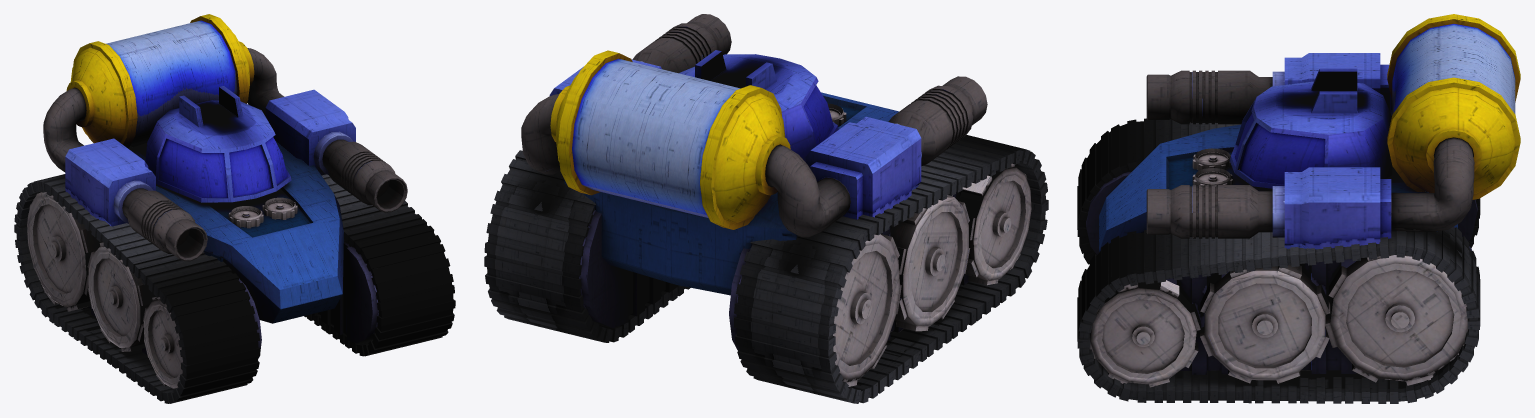
File: PlayerB15.obj
3 views of the same model, side by side, from view 1: azimuth 30°, elevation 25°; view 2: azimuth 150°, elevation 25°; view 3: azimuth 270°, elevation 25° (orthographic). The views are drawn at different scales.
Visible parts, largest first — view 1: Object001, Box042, Object004, Object003, Object002; view 2: Object001, Box042, Object003, Object004, Object002; view 3: Object001, Box042, Object004, Object003, Object002.
Boxes of the visible parts, box(x1,y1,x2,y2) form: Object001: box(43, 14, 407, 358); Box042: box(14, 174, 455, 403); Object004: box(27, 192, 101, 311); Object003: box(87, 242, 155, 351); Object002: box(143, 297, 182, 388); Object001: box(521, 14, 987, 350); Box042: box(484, 135, 1048, 403); Object003: box(890, 195, 970, 331); Object004: box(833, 234, 901, 386); Object002: box(958, 163, 1031, 285); Object001: box(1086, 14, 1520, 374); Box042: box(1077, 118, 1480, 403); Object004: box(1325, 255, 1467, 385); Object003: box(1200, 265, 1330, 383); Object002: box(1089, 280, 1200, 387).
Bounding box in the file's own units: 121 × 102 × 147.
Materials: 2 (2 with a texture image).
